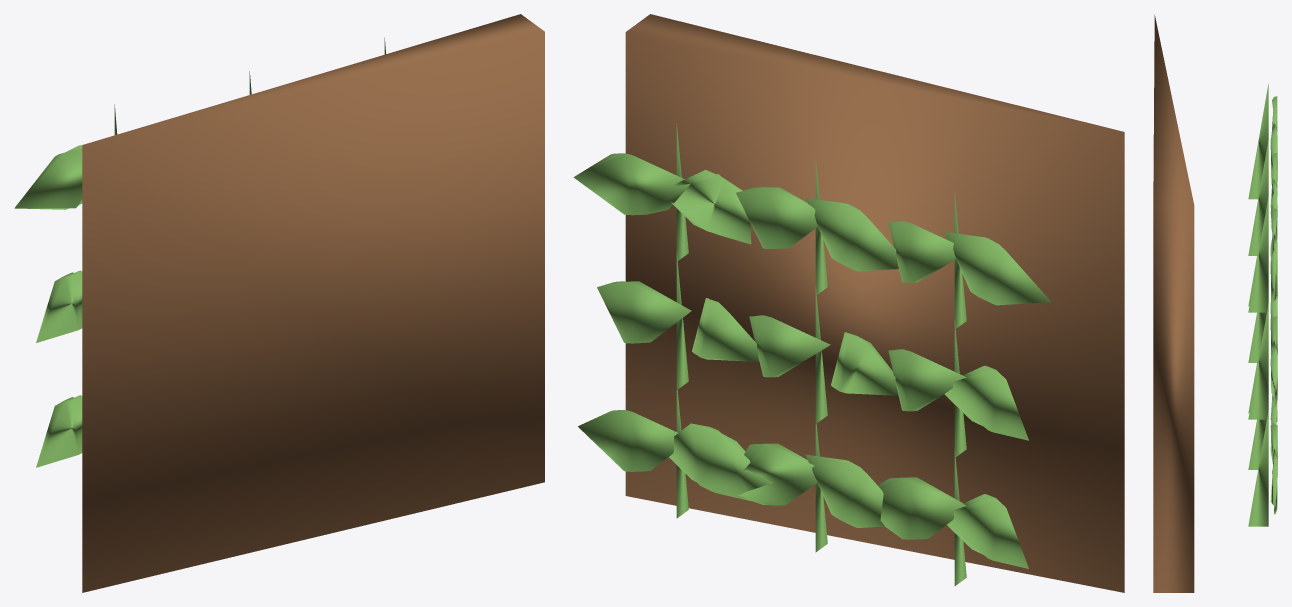
The model's file is wheat_small.glb.
3 renders of one model, left to right at view 1: azimuth 30°, elevation 25°; view 2: azimuth 150°, elevation 25°; view 3: azimuth 270°, elevation 25°, orthographic. The views are drawn at different scales.
Parts seen in each view (by area): view 1: Soil, Leaf.004, Leaf, Leaf.002; view 2: Soil, Leaf.017, Leaf.012, Leaf.004, Leaf.010, Leaf.013, Leaf.001, Leaf.015, Leaf.006, Leaf.016, Leaf.011, Leaf.002 (+16 smaller); view 3: Soil, Stem.006, Stem.007, Stem.008, Stem.002, Stem.005, Stem.003, Stem.004, Leaf.015, Leaf.013, Leaf.005, Leaf.017 (+6 smaller).
Part boxes in pixels (x1,y1,x2,y2): Soil: (82, 14, 544, 592); Leaf.004: (14, 145, 82, 209); Leaf: (36, 395, 82, 467); Leaf.002: (36, 270, 82, 342); Soil: (625, 14, 1124, 592); Leaf.017: (573, 153, 690, 215); Leaf.012: (669, 423, 772, 501); Leaf.004: (944, 232, 1050, 305); Leaf.010: (805, 198, 898, 271); Leaf.013: (578, 410, 677, 471); Leaf.001: (878, 477, 966, 539); Leaf.015: (597, 281, 691, 343); Leaf.006: (805, 454, 884, 527); Leaf.016: (671, 169, 751, 244); Leaf.011: (736, 187, 817, 248); Leaf.002: (944, 365, 1028, 440); Soil: (1153, 15, 1194, 592); Stem.006: (1248, 410, 1268, 526); Stem.007: (1248, 303, 1268, 419); Stem.008: (1248, 196, 1268, 312); Stem.002: (1248, 83, 1268, 199); Stem.005: (1248, 140, 1268, 255); Stem.003: (1248, 419, 1266, 469); Stem.004: (1248, 312, 1266, 362); Leaf.015: (1270, 340, 1277, 407); Leaf.013: (1270, 449, 1277, 514); Leaf.005: (1270, 123, 1277, 184); Leaf.017: (1272, 234, 1277, 300).
Bounding box in the file's own units: 1.17 × 1.08 × 0.316.
